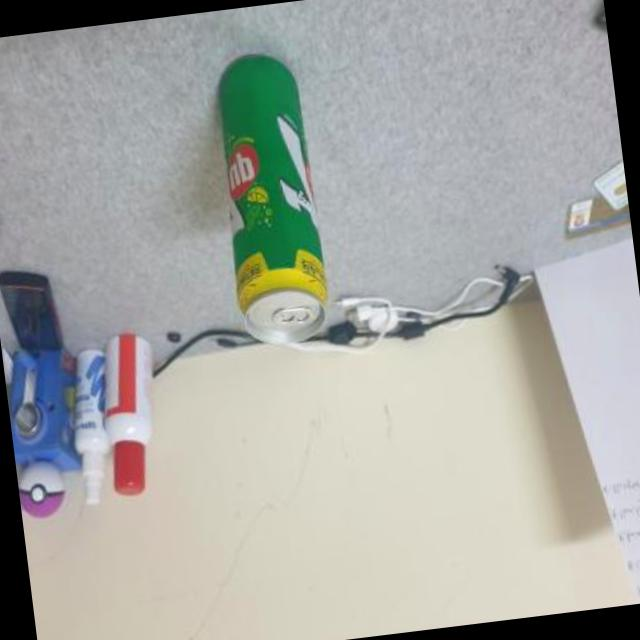metal: (218, 56, 326, 343)
